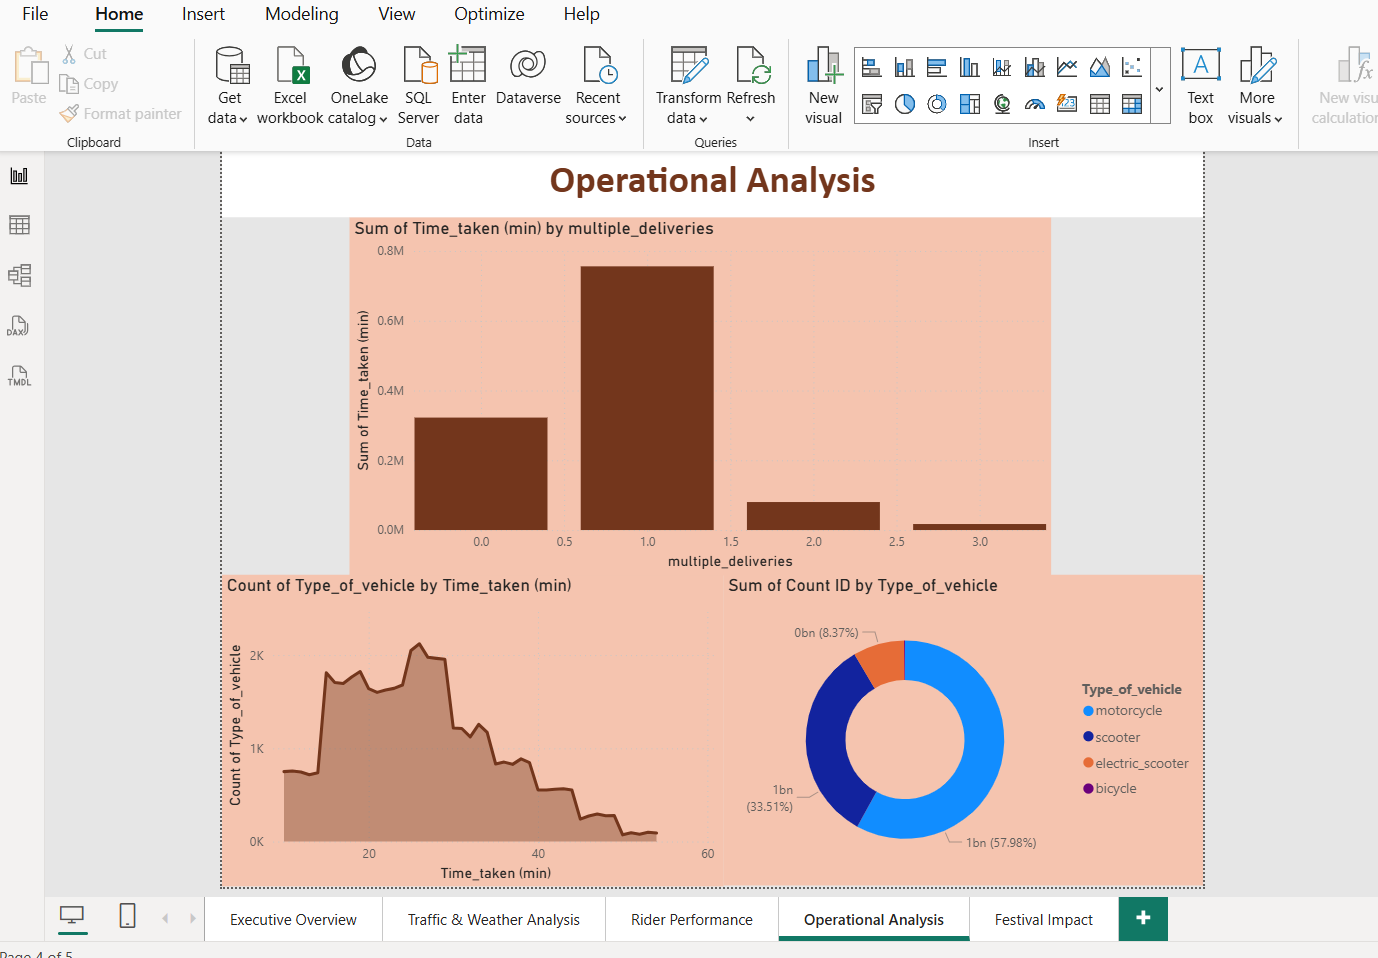

The page's visual inventory and layout, read from the dashboard file:
{"tool":"powerbi","page":{"name":"Operational Analysis","canvas":[960,720],"ordinal":3},"visuals":[{"type":"stackedAreaChart","fields":{"Category":["data set.Time_taken (min)"],"Y":["CountNonNull(data set.Type_of_vehicle)"]},"box":[0,415,490,305],"z":0},{"type":"clusteredColumnChart","fields":{"Category":["data set.multiple_deliveries"],"Y":["Sum(data set.Time_taken (min))"]},"box":[125,65,686.7,350],"z":1000},{"type":"donutChart","fields":{"Category":["data set.Type_of_vehicle"],"Y":["Sum(data set.Count ID)"]},"box":[490,415,470,303.8],"z":2000},{"type":"textbox","box":[0,0,960,65],"z":3000}]}

Visuals, with their boxes on the page's 960x720 design canvas (x1, y1, x2, y2). These are canvas units, not pixel positions in the 1378x958 screenshot, which may show the page scaled, cropped or inside an application window:
stackedAreaChart - data set.Time_taken (min) x CountNonNull(data set.Type_of_vehicle): [0, 415, 490, 720]
clusteredColumnChart - data set.multiple_deliveries x Sum(data set.Time_taken (min)): [125, 65, 812, 415]
donutChart - data set.Type_of_vehicle x Sum(data set.Count ID): [490, 415, 960, 719]
textbox: [0, 0, 960, 65]
